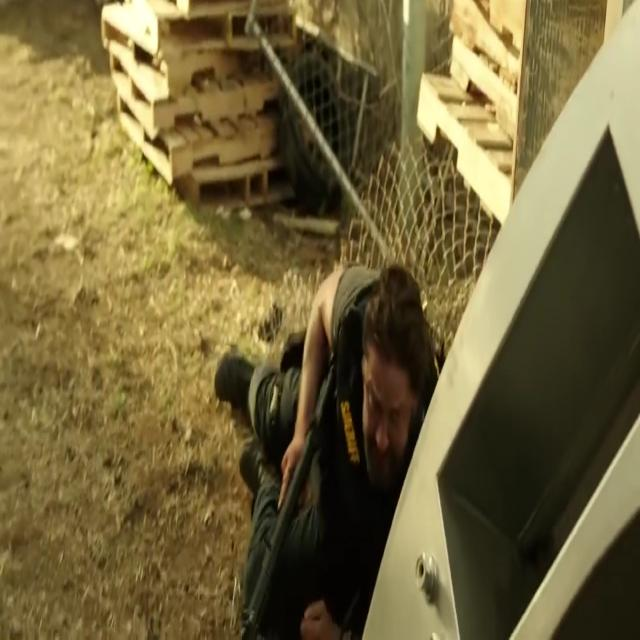Weapon: (240, 396, 336, 637)
